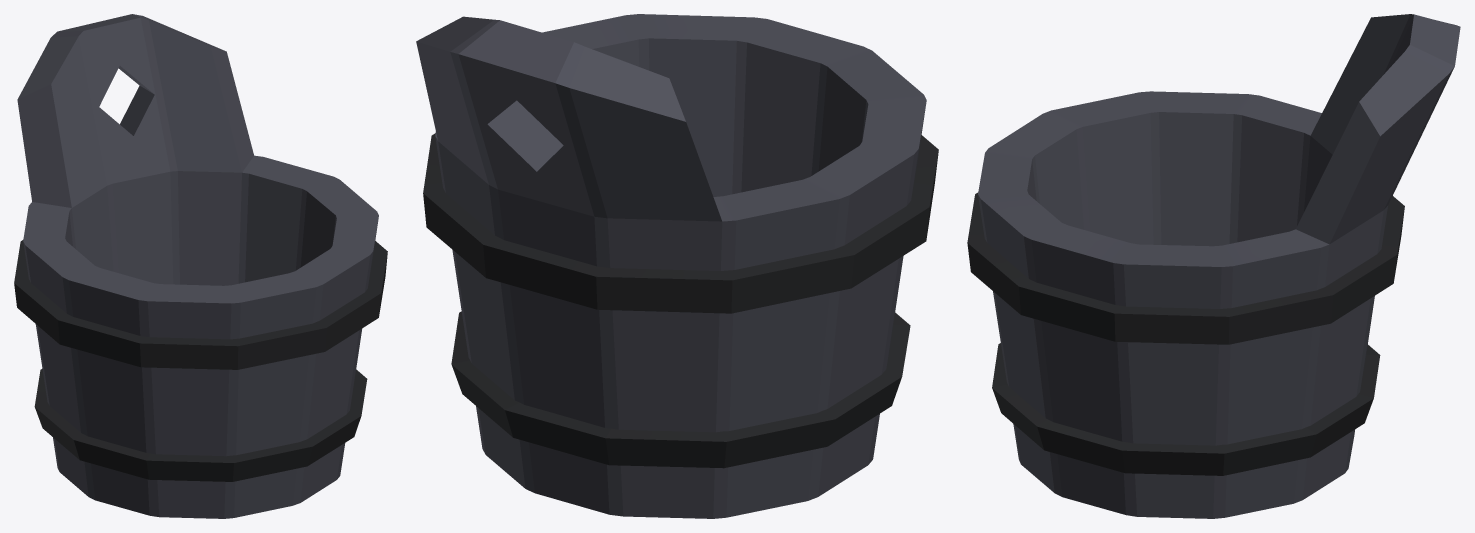
The model's file is Bucket.fbx.
3 views of the same model, side by side, from view 1: azimuth 30°, elevation 25°; view 2: azimuth 150°, elevation 25°; view 3: azimuth 270°, elevation 25° (orthographic). The views are drawn at different scales.
Parts seen in each view (by area): view 1: Bucket; view 2: Bucket; view 3: Bucket.
Boxes of the visible parts, box(x1,y1,x2,y2) form: Bucket: box(14, 14, 387, 518); Bucket: box(416, 14, 938, 518); Bucket: box(967, 14, 1460, 518).
Bounding box in the file's own units: 18.78 × 20.08 × 21.21.
